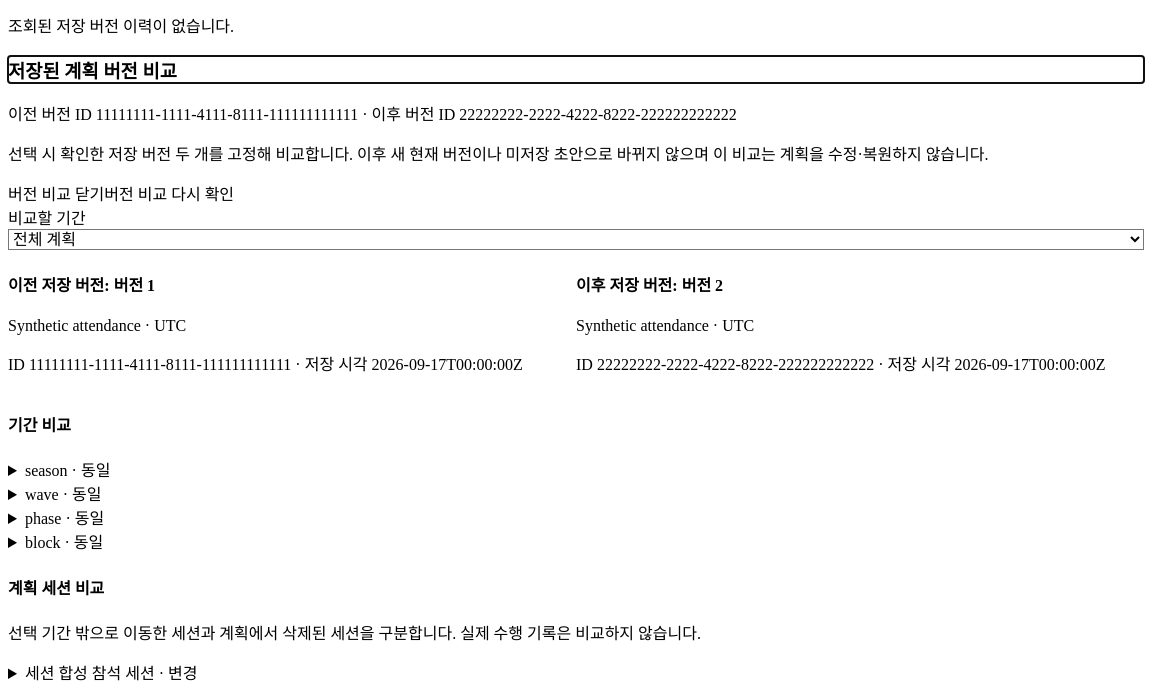
Scenario: session attendance deletion protection › compares immutable legacy and locked versions through read-only history
(page scrolled)
Step 1. Click the heading "세션 합성 참석 세션 · 변경" → click(111, 673), box [25,665,198,682]
(page scrolled)
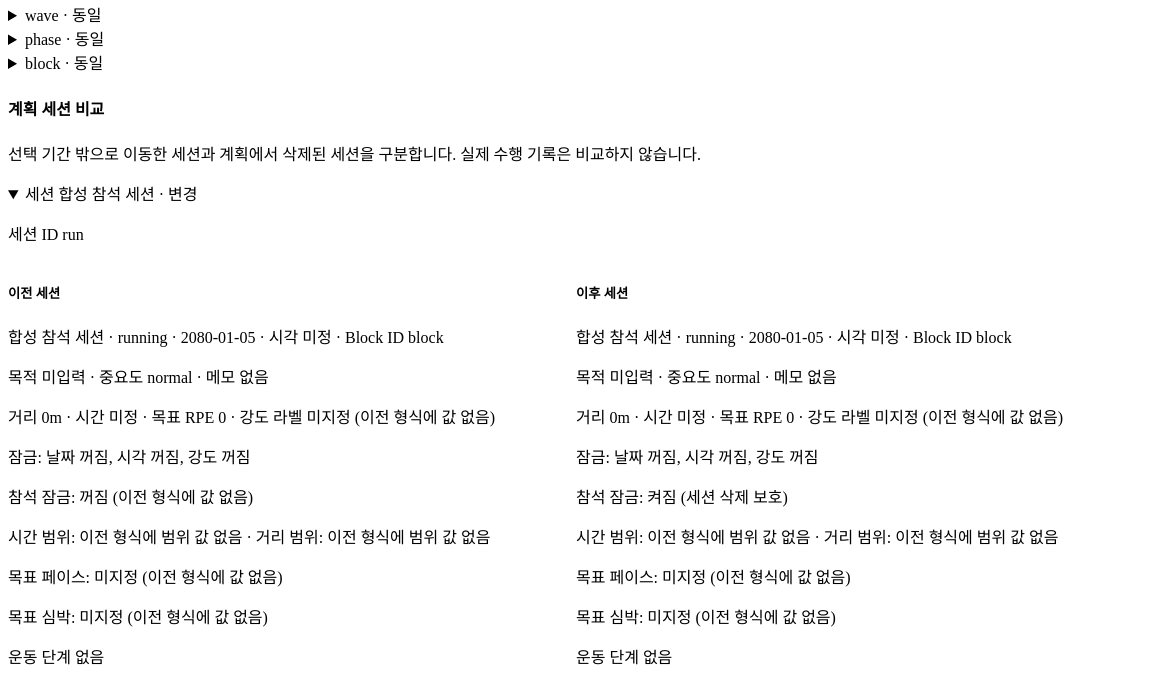
Expected: the text "참석 잠금: 꺼짐 (이전 형식에 값 없음)" is shown, [8,489,253,506]
Expected: the text "참석 잠금: 켜짐 (세션 삭제 보호)" is shown, [576,489,788,506]
